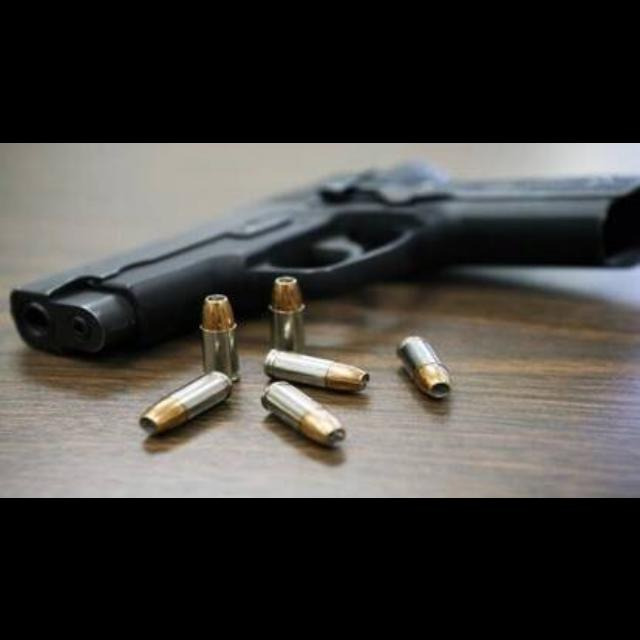handgun: (6, 156, 640, 368)
